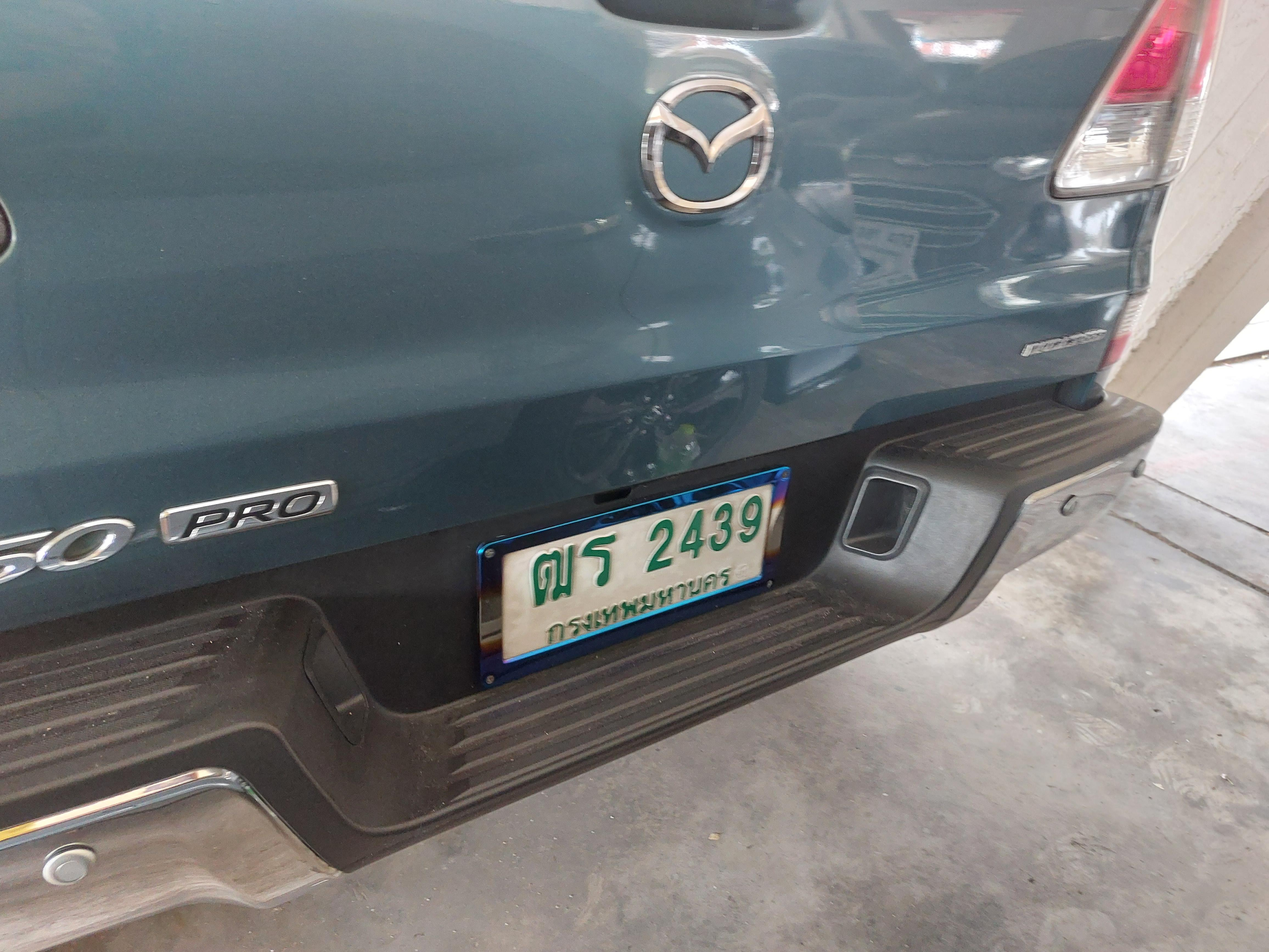license-plate: (472, 463, 800, 703)
